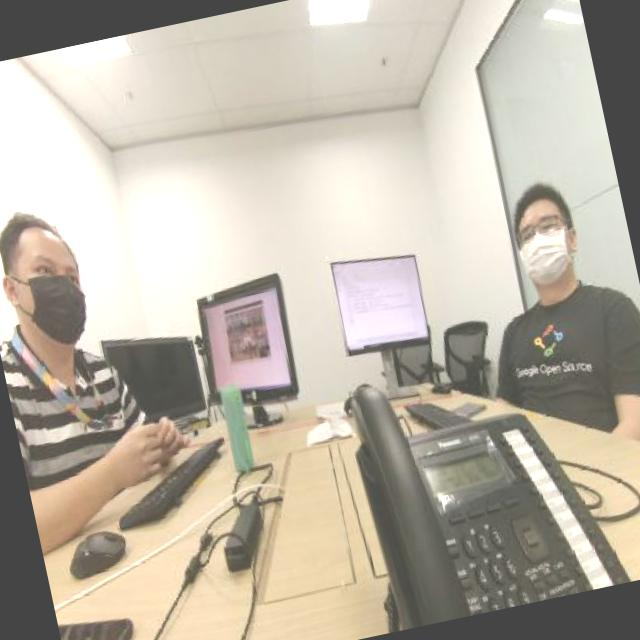Person: (0, 190, 146, 470), (470, 158, 627, 382)
